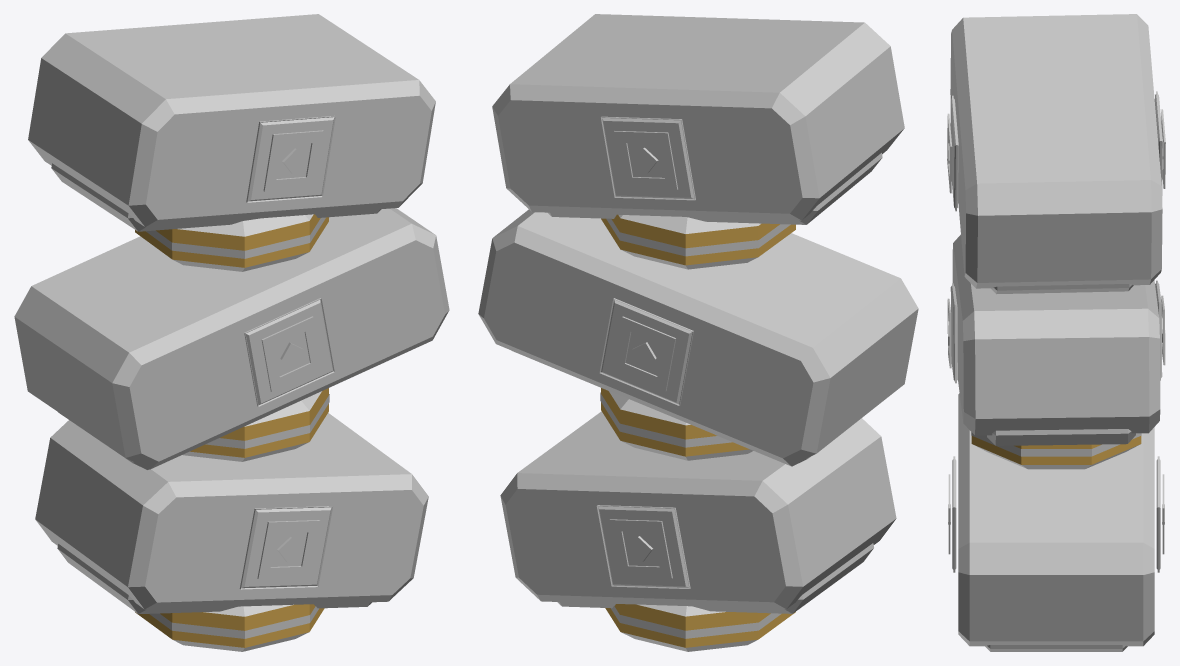
The model's file is wand_motion_00.obj.
3 views of the same model, side by side, from view 1: azimuth 30°, elevation 25°; view 2: azimuth 150°, elevation 25°; view 3: azimuth 270°, elevation 25° (orthographic). The views are drawn at different scales.
Visible parts, largest first — view 1: chamfered_seal_tablet_2, chamfered_seal_tablet_1, chamfered_seal_tablet_0, tablet_spacer_2, tablet_spacer_0, inset_rune_socket_1, inset_rune_socket_3, inset_rune_socket_5, tablet_spacer_1, seal_shadow_base_2, seal_shadow_base_0, tablet_spacer_dark_seam_2 (+2 smaller); view 2: chamfered_seal_tablet_2, chamfered_seal_tablet_1, chamfered_seal_tablet_0, tablet_spacer_2, tablet_spacer_0, inset_rune_socket_4, inset_rune_socket_2, inset_rune_socket_0, tablet_spacer_1, seal_shadow_base_0, seal_shadow_base_2, tablet_spacer_dark_seam_2 (+2 smaller); view 3: chamfered_seal_tablet_2, chamfered_seal_tablet_0, chamfered_seal_tablet_1, tablet_spacer_1, seal_shadow_base_1, seal_shadow_base_2, tablet_spacer_dark_seam_1, seal_shadow_base_0, inset_rune_socket_5, inset_rune_socket_3, inset_rune_socket_0, inset_rune_socket_1 (+1 smaller).
Part boxes in pixels (x1,y1,x2,y2): chamfered_seal_tablet_2: [28, 14, 435, 227]; chamfered_seal_tablet_1: [14, 208, 449, 469]; chamfered_seal_tablet_0: [35, 413, 428, 609]; tablet_spacer_2: [135, 214, 328, 271]; tablet_spacer_0: [135, 604, 324, 651]; inset_rune_socket_1: [239, 506, 332, 589]; inset_rune_socket_3: [244, 298, 334, 406]; inset_rune_socket_5: [246, 115, 335, 202]; tablet_spacer_1: [182, 388, 328, 461]; seal_shadow_base_2: [51, 163, 380, 231]; seal_shadow_base_0: [57, 544, 371, 614]; tablet_spacer_dark_seam_2: [146, 217, 325, 258]; chamfered_seal_tablet_2: [492, 14, 904, 220]; chamfered_seal_tablet_1: [478, 209, 918, 465]; chamfered_seal_tablet_0: [500, 411, 896, 609]; tablet_spacer_2: [601, 214, 795, 269]; tablet_spacer_0: [605, 604, 795, 651]; inset_rune_socket_4: [601, 116, 695, 200]; inset_rune_socket_2: [599, 298, 693, 405]; inset_rune_socket_0: [596, 505, 690, 588]; tablet_spacer_1: [601, 388, 753, 460]; seal_shadow_base_0: [557, 543, 873, 613]; seal_shadow_base_2: [548, 153, 882, 224]; tablet_spacer_dark_seam_2: [606, 218, 790, 256]; chamfered_seal_tablet_2: [950, 14, 1162, 288]; chamfered_seal_tablet_0: [958, 393, 1154, 646]; chamfered_seal_tablet_1: [952, 234, 1160, 435]; tablet_spacer_1: [971, 436, 1141, 469]; seal_shadow_base_1: [987, 429, 1135, 445]; seal_shadow_base_2: [991, 284, 1133, 294]; tablet_spacer_dark_seam_1: [971, 432, 1141, 456]; seal_shadow_base_0: [985, 645, 1127, 651]; inset_rune_socket_5: [950, 95, 958, 211]; inset_rune_socket_3: [950, 283, 957, 383]; inset_rune_socket_0: [1156, 456, 1160, 572]; inset_rune_socket_1: [952, 456, 956, 572].
Bounding box in the file's own units: 0.1981 × 0.3169 × 0.1147.
